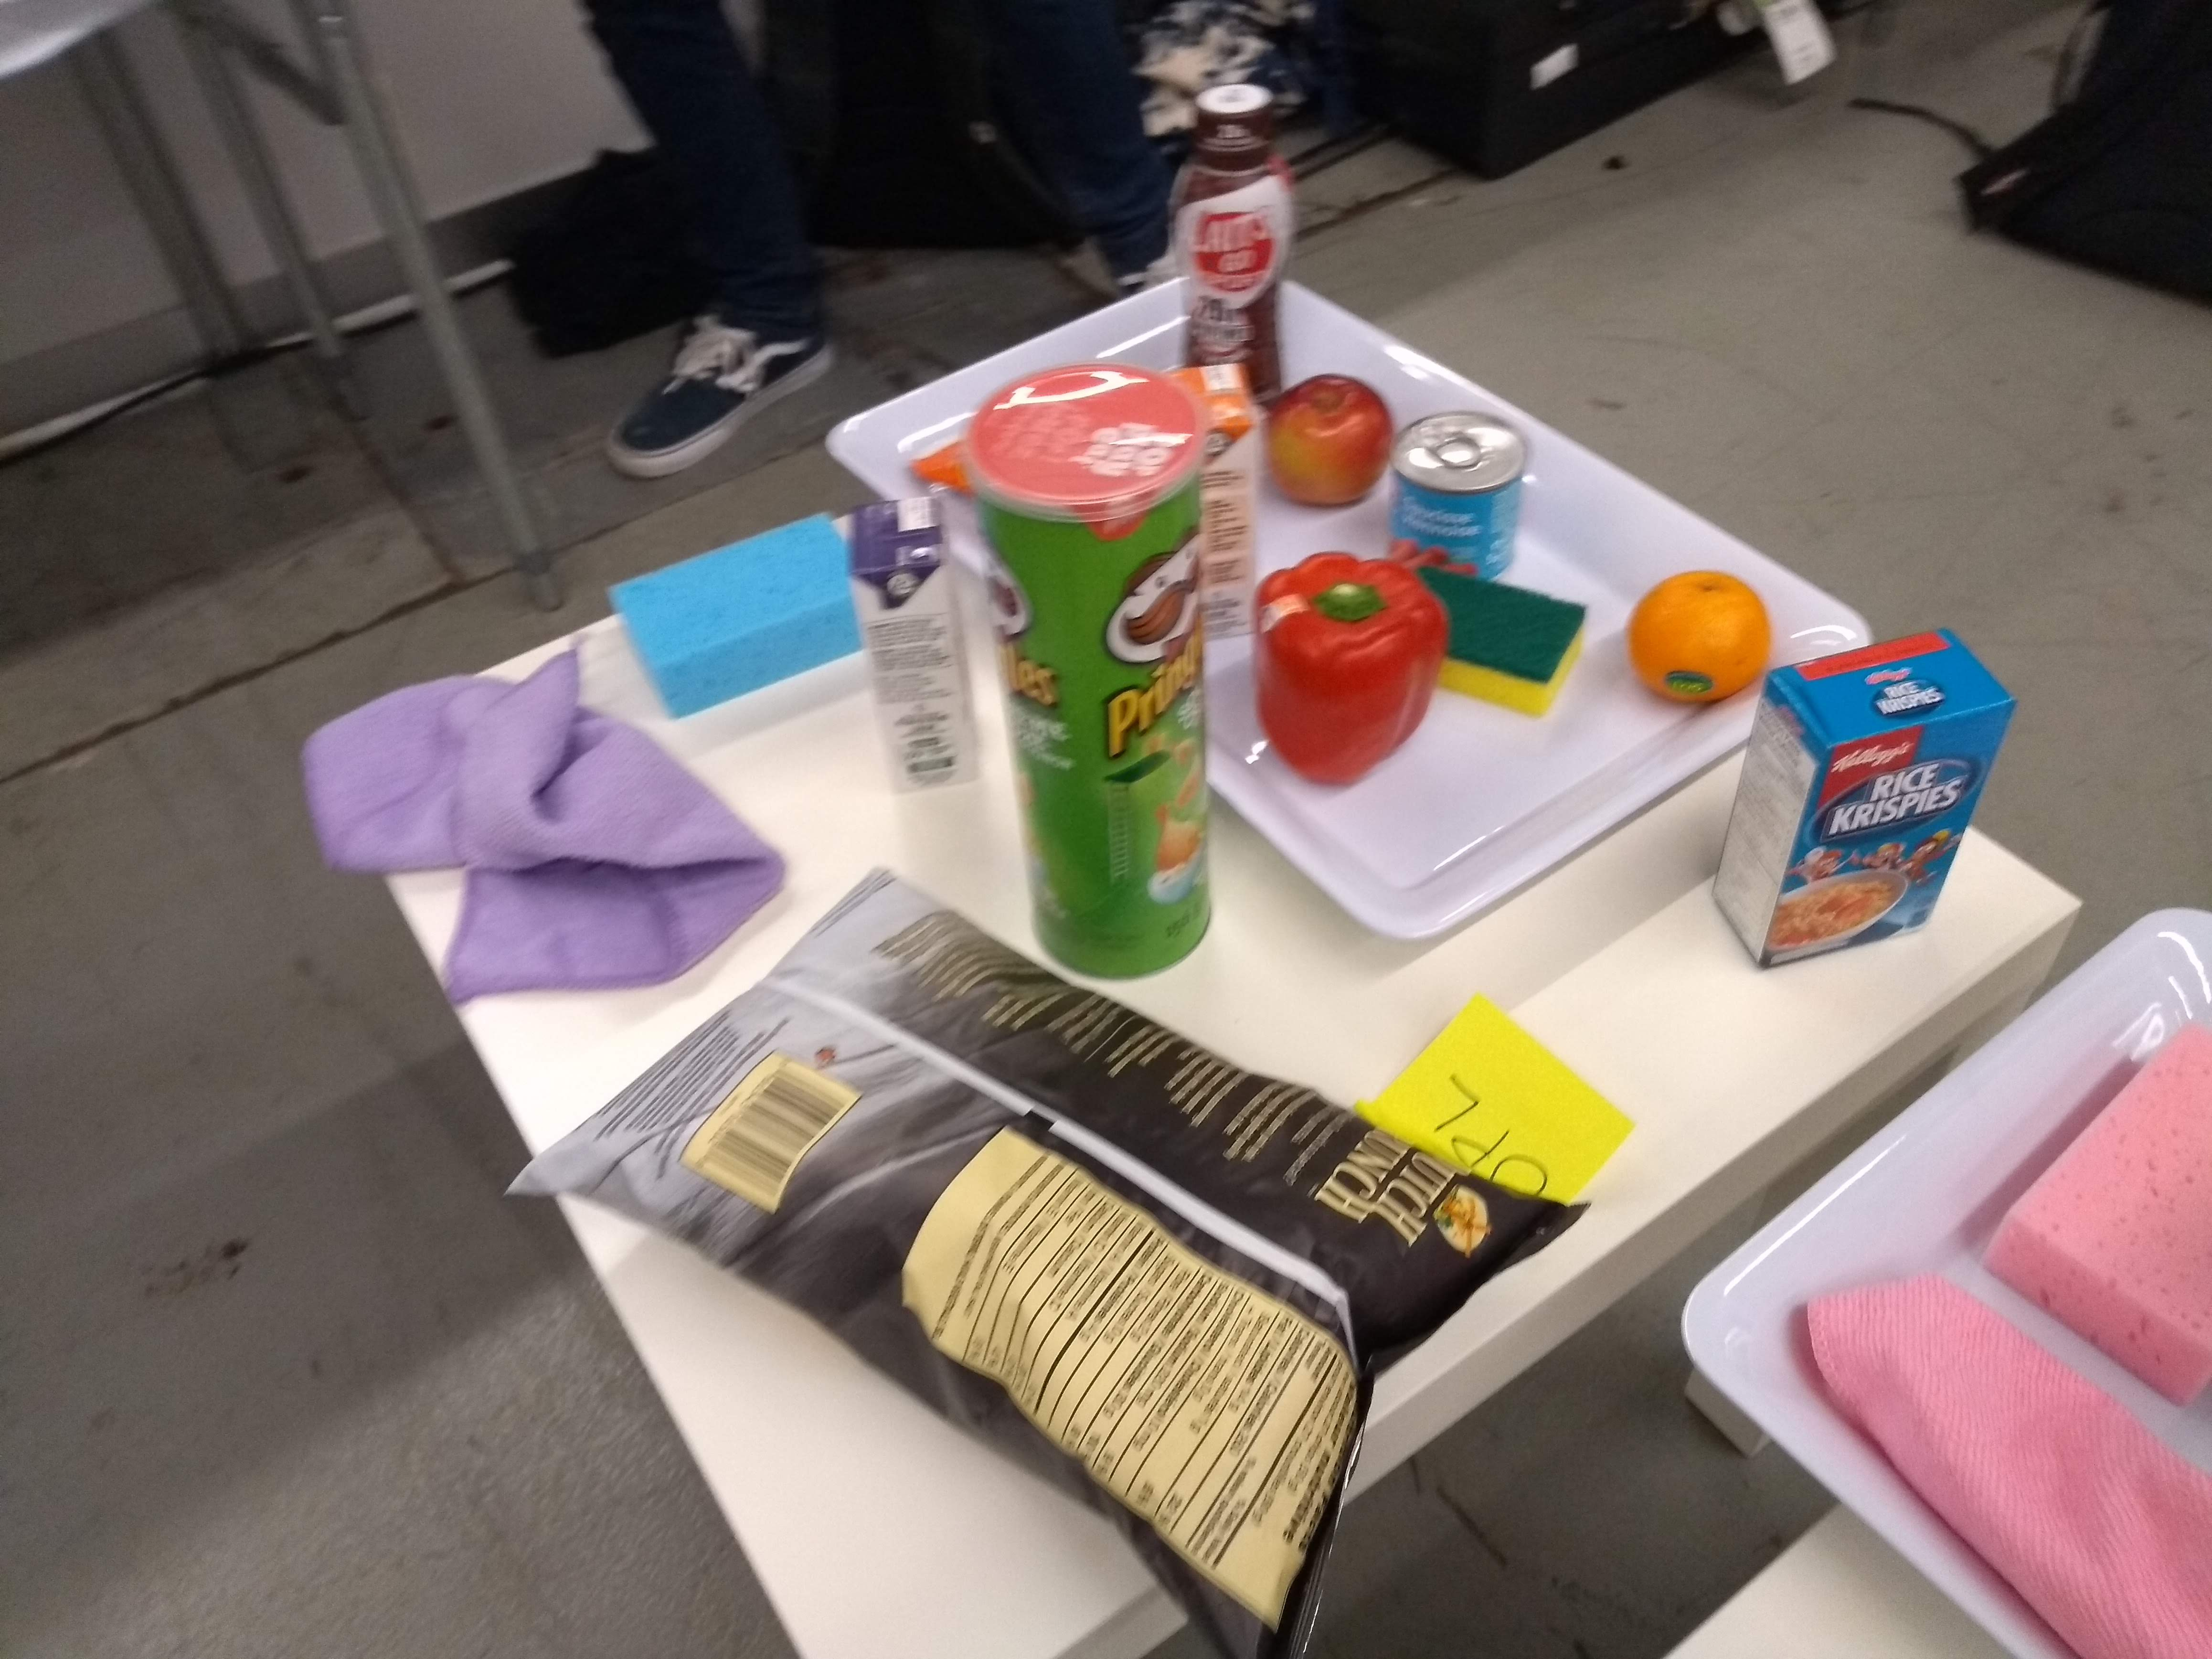apple: (1261, 369, 1399, 518)
cereal: (1705, 615, 2027, 976)
chocolate_drink: (1165, 85, 1292, 382)
cloth_opl: (289, 631, 791, 1035)
grape_juice: (841, 491, 993, 802)
orange: (1625, 563, 1782, 714)
paprika: (1245, 547, 1449, 798)
potato_chips: (486, 857, 1594, 1659)
sausages: (1386, 401, 1531, 575)
sponge_opl: (601, 504, 866, 725)
